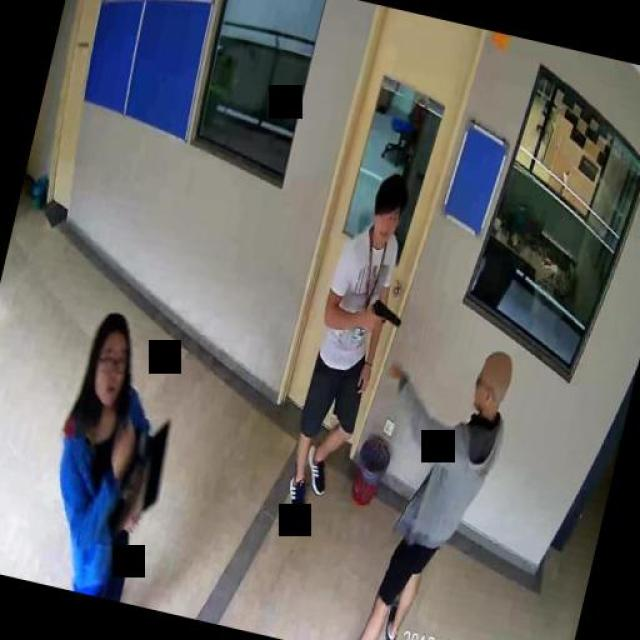gun: (367, 296, 405, 336)
